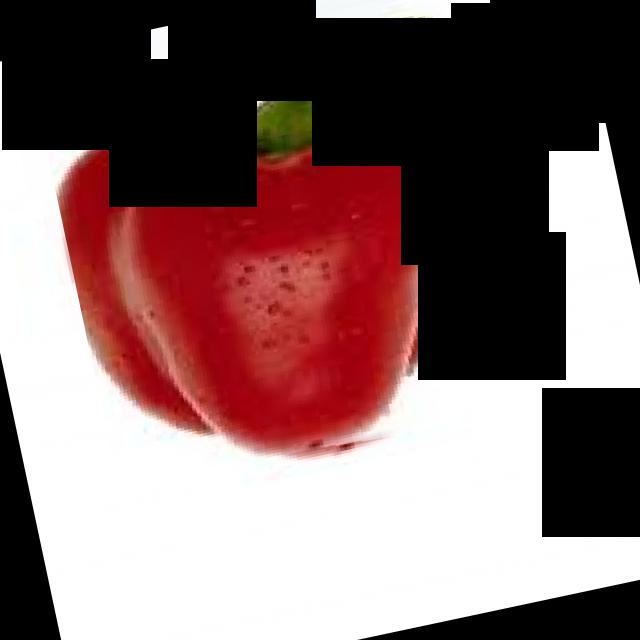pepper: (36, 10, 538, 498)
